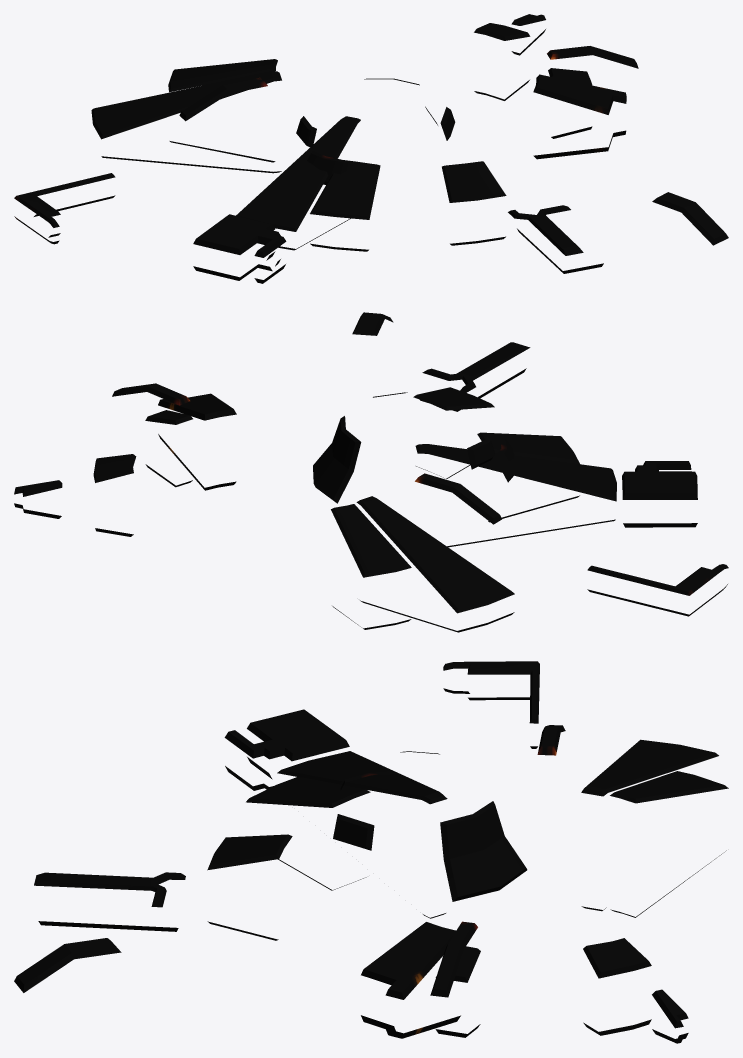
The model's file is ama_outpost_03.glb.
3 renders of one model, top to bottom at view 1: azimuth 30°, elevation 25°; view 2: azimuth 150°, elevation 25°; view 3: azimuth 270°, elevation 25°, orthographic. The views are drawn at different scales.
Visible parts, largest first — view 1: ama_outpost_03_LOD0; view 2: ama_outpost_03_LOD0; view 3: ama_outpost_03_LOD0.
Boxes of the visible parts, bbox=[...] form: ama_outpost_03_LOD0: bbox=[14, 14, 728, 283]; ama_outpost_03_LOD0: bbox=[14, 312, 728, 632]; ama_outpost_03_LOD0: bbox=[14, 661, 728, 1043].
Size of what is drawn, in the model's own units: 25.37 by 4.62 by 21.34.
Materials: 1 (1 with a texture image).
